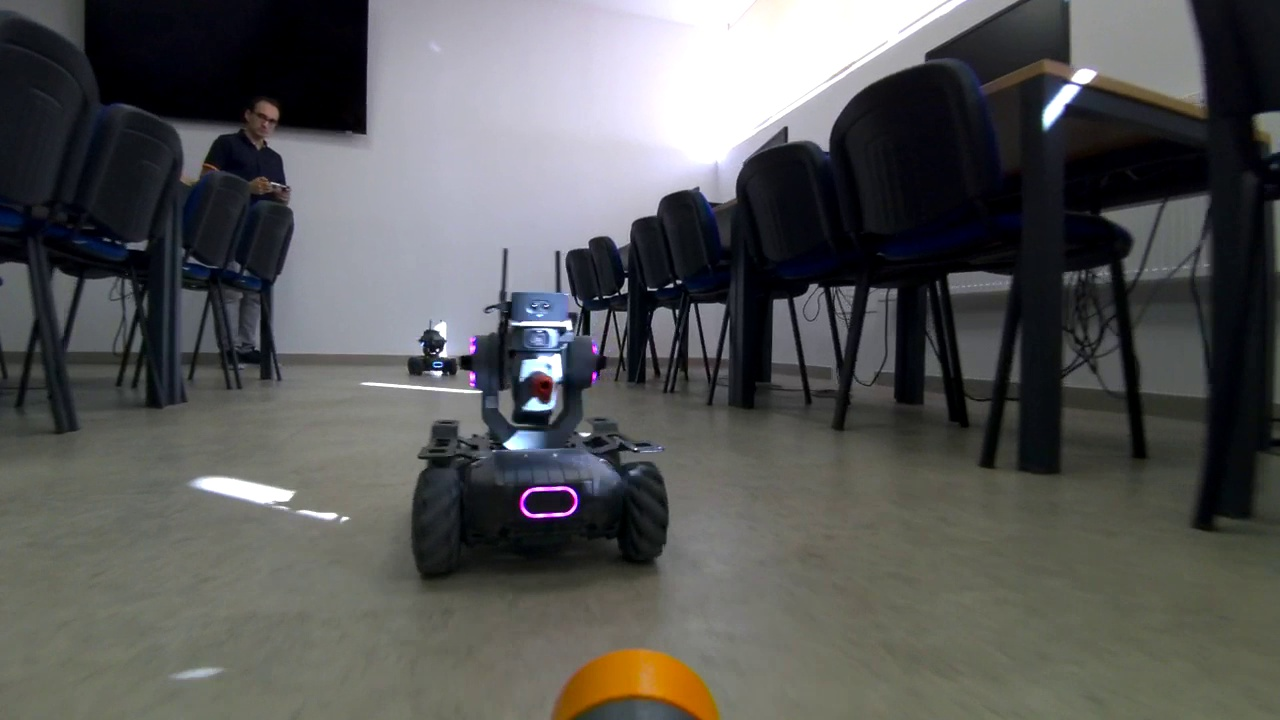robot: (429, 286, 672, 573), (408, 321, 456, 376)
